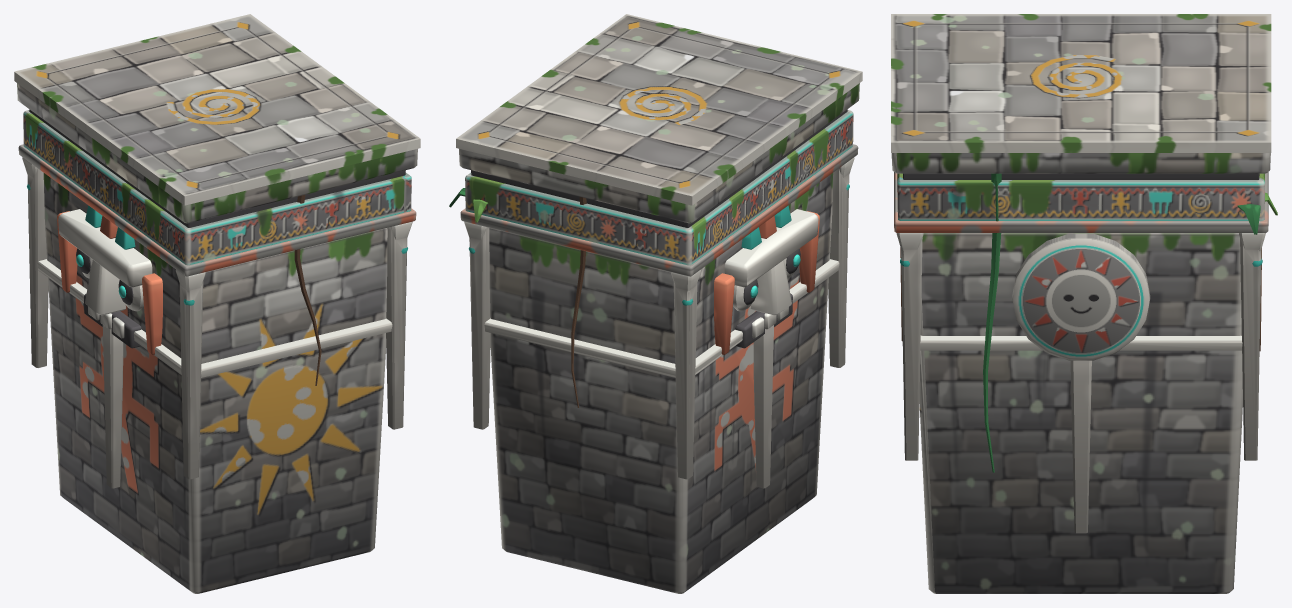
Rendered from mid_E.glb.
3 renders of one model, left to right at view 1: azimuth 30°, elevation 25°; view 2: azimuth 150°, elevation 25°; view 3: azimuth 270°, elevation 25°, orthographic. The views are drawn at different scales.
Parts seen in each view (by area): view 1: mid_E.001; view 2: mid_E.001; view 3: mid_E.001.
Boxes of the visible parts, x1,y1,x2,y2 form: mid_E.001: (14, 14, 420, 593); mid_E.001: (449, 14, 862, 593); mid_E.001: (891, 14, 1277, 593).
Size of the model in its own units: 8.75 by 13.6 by 10.17.
Materials: 1 (1 with a texture image).
